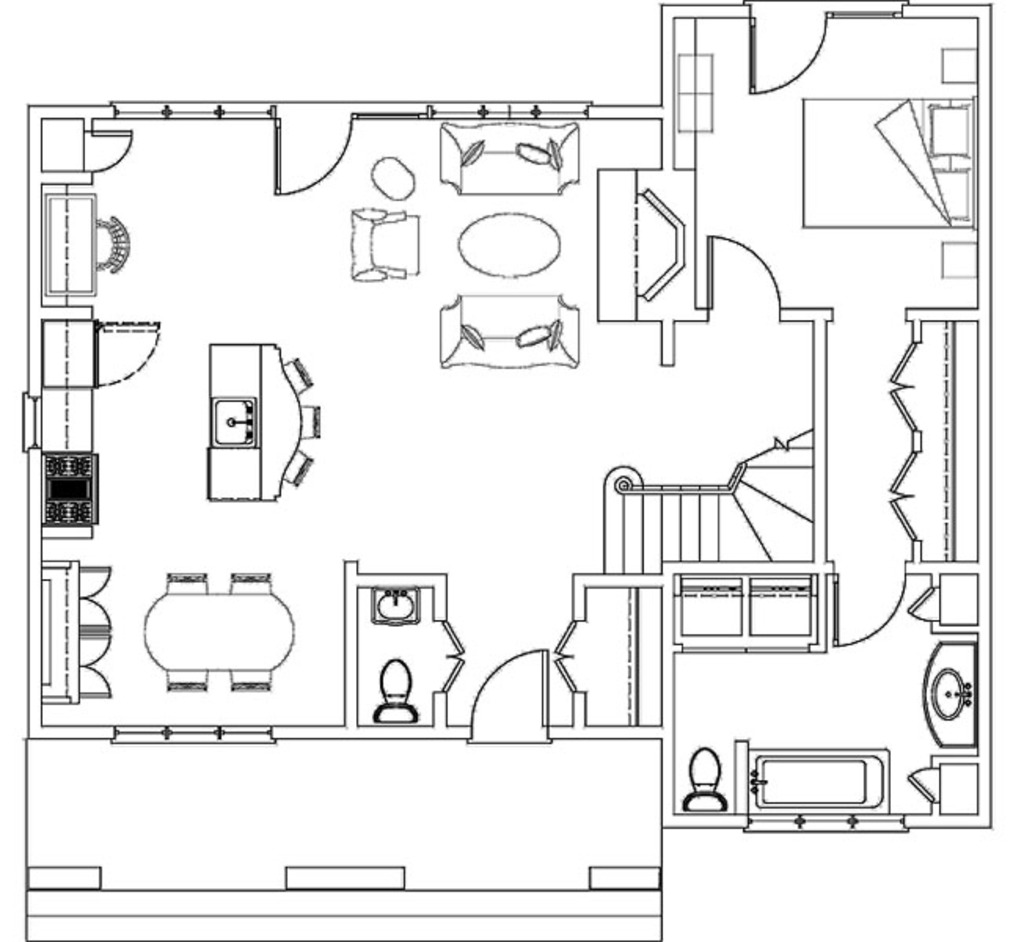bed: (791, 89, 981, 234)
dining_table: (126, 561, 304, 703)
door: (471, 648, 558, 744), (746, 2, 832, 92), (273, 100, 349, 195), (703, 232, 781, 324), (86, 321, 171, 395), (831, 570, 902, 653), (71, 632, 122, 696), (887, 334, 922, 427), (887, 448, 922, 537), (80, 127, 138, 173), (436, 624, 473, 695), (549, 622, 586, 690), (80, 567, 116, 628)
kitchen_bar: (194, 324, 328, 519)
large_sink: (674, 747, 735, 822), (370, 653, 426, 731)
large_sofa: (439, 279, 602, 373), (438, 128, 590, 200)
small_sink: (920, 642, 981, 744), (362, 579, 436, 632)
small_sofa: (349, 208, 428, 280)
stairs: (607, 435, 816, 571)
tub: (746, 751, 894, 816)
window: (112, 722, 286, 750)
